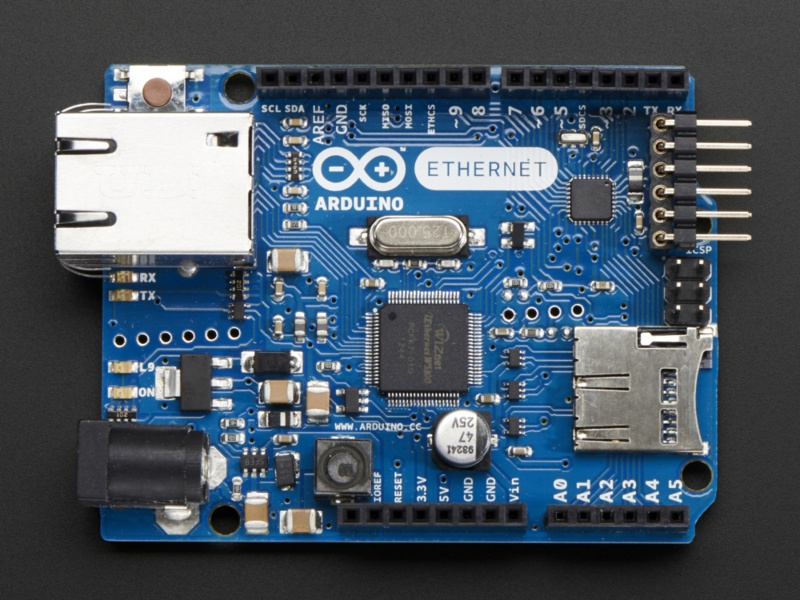uno: (50, 50, 734, 565)
